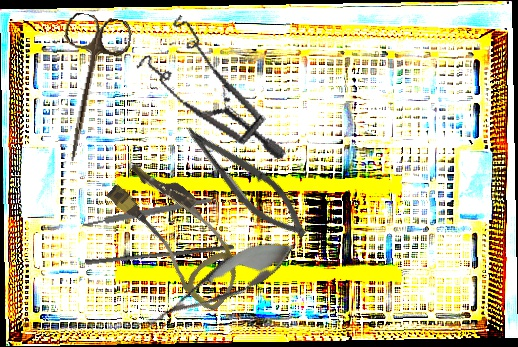Cannula: (93, 152, 263, 315)
Iris Scissors: (43, 10, 134, 168)
Micro Scissor: (134, 224, 306, 345), (172, 117, 319, 248)
Pusher: (84, 238, 235, 271)
Scalpel Handle: (81, 196, 213, 229)
Speculum: (122, 7, 315, 161)
